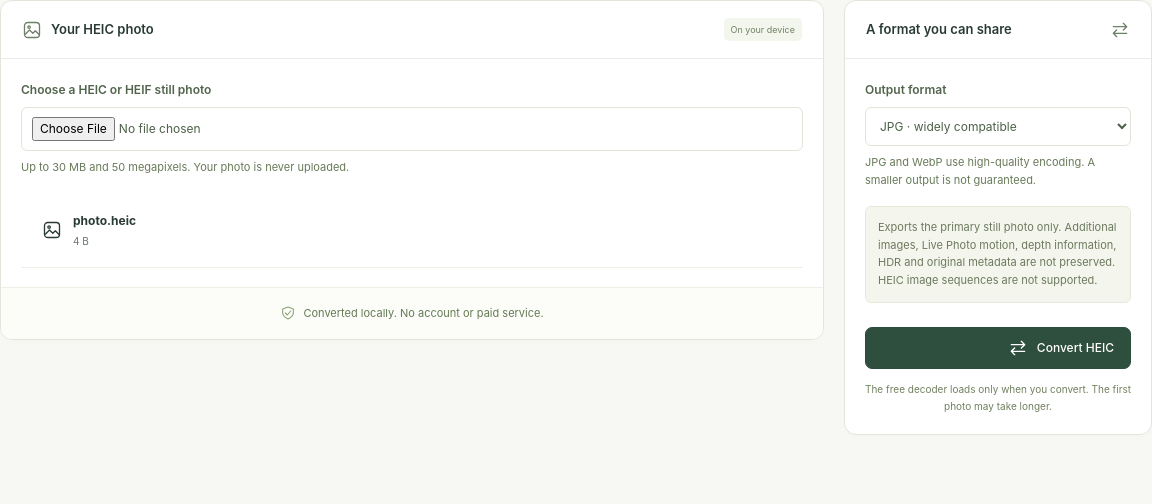
Test case: waits for the active decoder after cancellation and suppresses its stale result
Earlier steps of the test are not shown.
Later steps or results of the test are not shown.
Click the button "Convert HEIC": [1075, 347] box [865,327,1131,369]
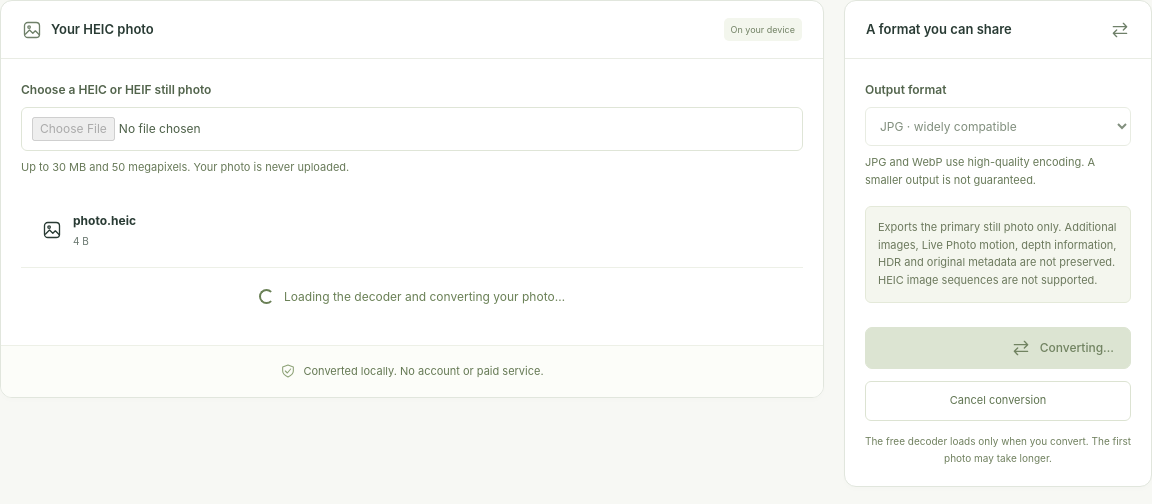
Click the button "Cancel conversion": [998, 401] box [865,381,1131,421]
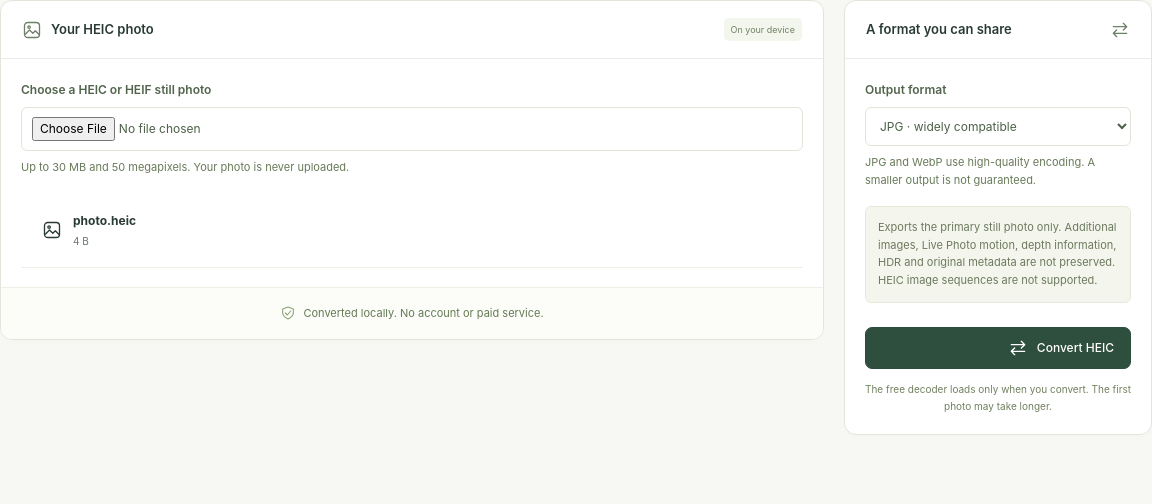
Now the button "Convert HEIC" is enabled, box [865,327,1131,369]
